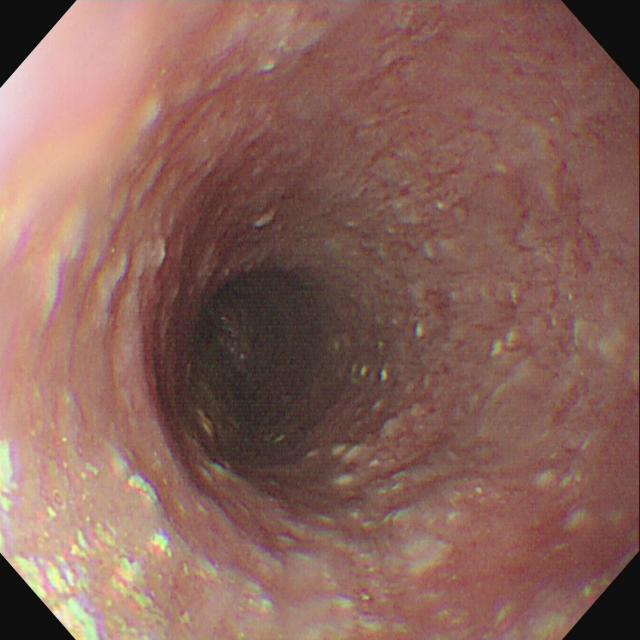E: (161, 251, 356, 457)
J: (2, 432, 176, 640), (305, 363, 469, 577)
